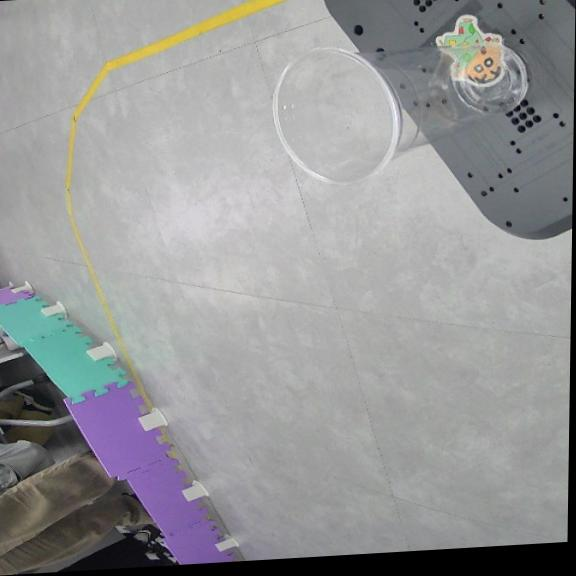Plastik: (274, 43, 527, 183)
